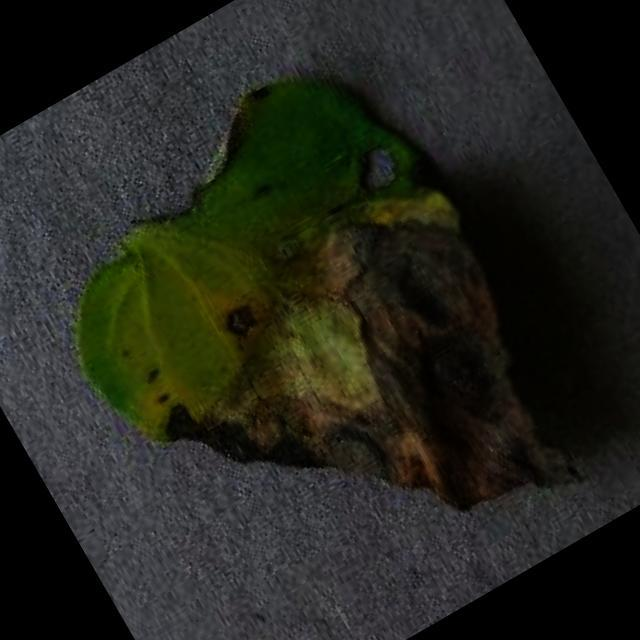Tomato Early blight leaf: (5, 23, 615, 640)
